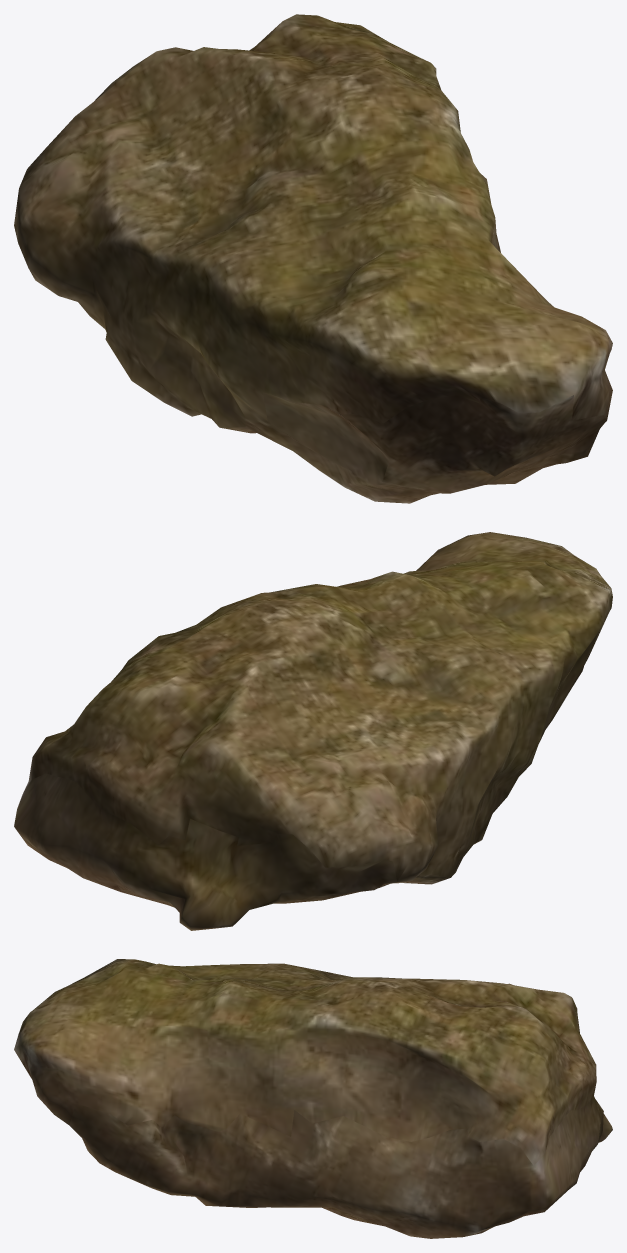
File: rocks_5.gltf
3 views of the same model, one above another, from view 1: azimuth 30°, elevation 25°; view 2: azimuth 150°, elevation 25°; view 3: azimuth 270°, elevation 25° (orthographic). The views are drawn at different scales.
Visible parts, largest first — view 1: rock_moss_set_01_rock05; view 2: rock_moss_set_01_rock05; view 3: rock_moss_set_01_rock05.
Boxes of the visible parts, x1=… form: rock_moss_set_01_rock05: x1=14, y1=14, x2=612, y2=503; rock_moss_set_01_rock05: x1=14, y1=532, x2=612, y2=930; rock_moss_set_01_rock05: x1=14, y1=959, x2=612, y2=1238.
Size of the model in its own units: 1.81 by 1.21 by 3.01.
Materials: 1 (1 with a texture image).
